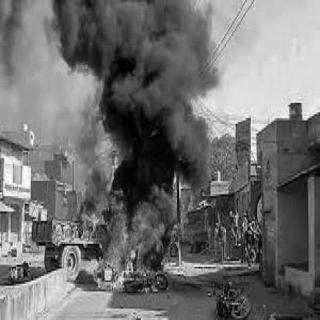Smoke: (49, 0, 218, 169)
